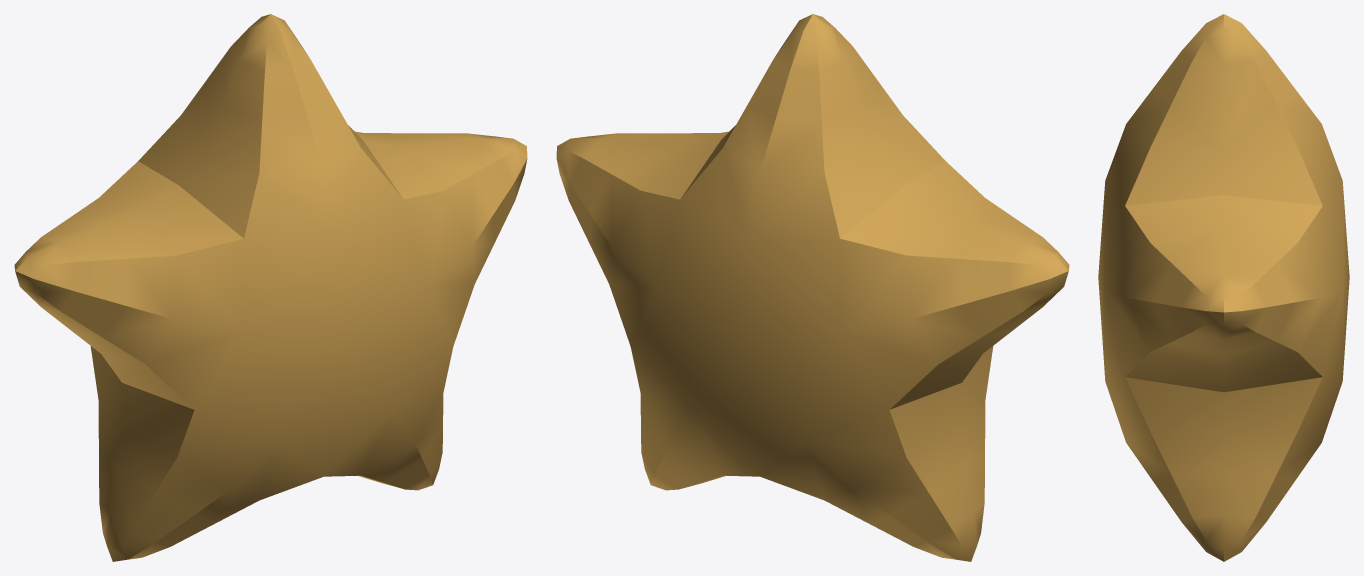
Rendered from quaternius-platformer-game-star.glb.
3 views of the same model, side by side, from view 1: azimuth 30°, elevation 25°; view 2: azimuth 150°, elevation 25°; view 3: azimuth 270°, elevation 25° (orthographic). The views are drawn at different scales.
Parts seen in each view (by area): view 1: Star; view 2: Star; view 3: Star.
Boxes of the visible parts, box(x1,y1,x2,y2) form: Star: box(14, 14, 527, 561); Star: box(556, 14, 1069, 561); Star: box(1098, 14, 1349, 561).
Bounding box in the file's own units: 1.51 × 1.44 × 0.6879.
